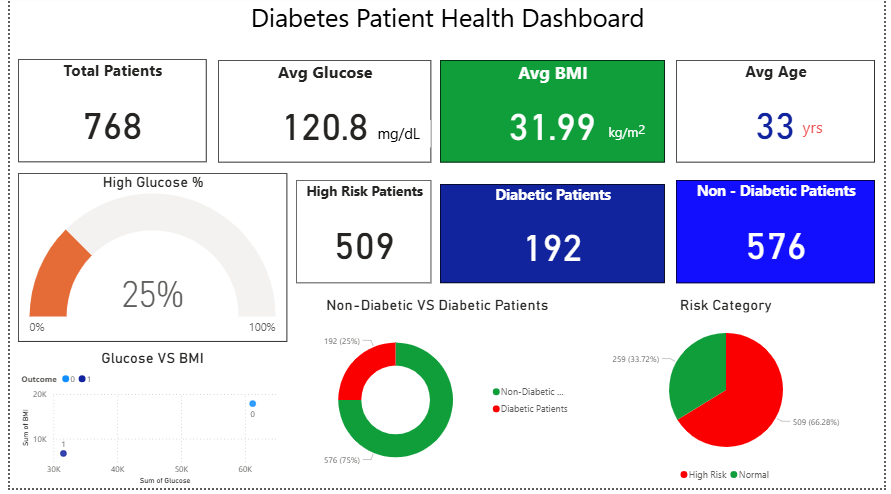

What the dashboard file says about the page in this screenshot:
{"tool":"powerbi","page":{"name":"Page 3","canvas":[1280,720],"ordinal":3},"visuals":[{"type":"textbox","box":[0,0,1280.6,83.7],"z":0},{"type":"card","title":"Total Patients","fields":{"Values":["diabetes new.Total Patients"]},"box":[12.1,92.4,275.7,151.5],"z":2},{"type":"card","title":"Avg Glucose","fields":{"Values":["diabetes new.Avg Glucose"]},"box":[304.5,93.9,312,150],"z":3},{"type":"card","title":"Avg BMI","fields":{"Values":["diabetes new.Avg BMI"]},"box":[628.6,93.9,328.7,150],"z":4},{"type":"card","title":"Avg Age","fields":{"Values":["diabetes new.Avg Age"]},"box":[974,93.9,290.8,150],"z":5},{"type":"card","title":"Diabetic Patients","fields":{"Values":["diabetes new.Diabetic Patients"]},"box":[628.6,275.7,328.7,145.4],"z":6},{"type":"card","title":"Non - Diabetic Patients","fields":{"Values":["diabetes new.Non-Diabetic Patients"]},"box":[974,269.6,290.8,151.5],"z":7},{"type":"textbox","box":[1154.3,169.7,62.1,51.5],"z":8},{"type":"textbox","box":[870,182,74,40],"z":9},{"type":"textbox","box":[15.7,484.3,277.1,150],"z":11},{"type":"textbox","box":[532.9,181.4,82.9,40],"z":12},{"type":"gauge","title":"High Glucose %","fields":{"Y":["diabetes new.DAX High Glucose %"]},"box":[12.1,259,393.8,246.9],"z":13},{"type":"pieChart","title":"Risk Category","fields":{"Category":["diabetes new.Risk Category"],"Y":["CountNonNull(diabetes new.Count of Risk Category)"]},"box":[831.6,439.3,433.2,280.2],"z":14},{"type":"scatterChart","title":"Glucose VS BMI","fields":{"X":["Sum(diabetes new.Glucose)"],"Y":["Sum(diabetes new.BMI)"],"Series":["diabetes new.Outcome"]},"box":[12.1,516.5,393.8,203],"z":15},{"type":"donutChart","title":"Non-Diabetic VS  Diabetic Patients","fields":{"Y":["diabetes new.Non-Diabetic Patients","diabetes new.Diabetic Patients"]},"box":[418.1,439.3,413.5,280.2],"z":16},{"type":"card","title":"High Risk Patients","fields":{"Values":["diabetes new.High Risk Patients"]},"box":[418.1,269.6,198.4,151.5],"z":17}]}

Visuals, with their boxes in screenshot pixels (x1, y1, x2, y2), scaled from the page's 1280x720 canvas onto the 891x494 screenshot:
textbox: Rect(0, 0, 890, 57)
"Total Patients" card: Rect(8, 63, 200, 167)
"Avg Glucose" card: Rect(212, 64, 429, 167)
"Avg BMI" card: Rect(438, 64, 666, 167)
"Avg Age" card: Rect(678, 64, 880, 167)
"Diabetic Patients" card: Rect(438, 189, 666, 289)
"Non - Diabetic Patients" card: Rect(678, 185, 880, 289)
textbox: Rect(804, 116, 847, 152)
textbox: Rect(606, 125, 657, 152)
textbox: Rect(11, 332, 204, 435)
textbox: Rect(371, 124, 429, 152)
"High Glucose %" gauge: Rect(8, 178, 283, 347)
"Risk Category" pieChart: Rect(579, 301, 880, 493)
"Glucose VS BMI" scatterChart: Rect(8, 354, 283, 493)
"Non-Diabetic VS  Diabetic Patients" donutChart: Rect(291, 301, 579, 493)
"High Risk Patients" card: Rect(291, 185, 429, 289)
